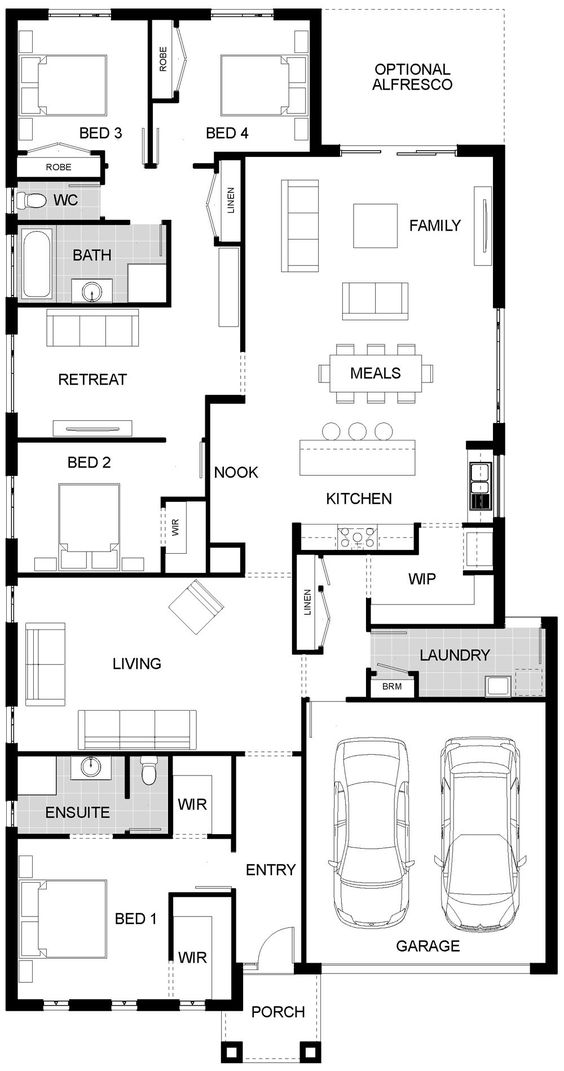door: (255, 925, 297, 963)
room: (5, 835, 235, 1010), (147, 9, 321, 158), (6, 8, 152, 169), (5, 438, 166, 578), (5, 220, 172, 307)
window: (492, 306, 506, 424), (4, 331, 20, 413), (4, 232, 19, 298), (4, 475, 19, 539), (47, 8, 113, 21), (210, 7, 276, 20), (4, 583, 19, 625), (4, 703, 19, 745), (5, 798, 21, 829), (110, 999, 139, 1011), (177, 1000, 206, 1012), (42, 998, 70, 1010)
